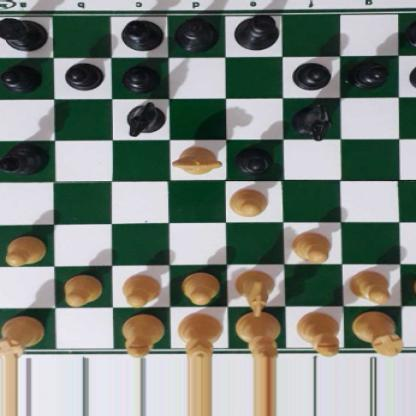black-bishop: (118, 19, 166, 51), (0, 143, 49, 174)
black-king: (232, 11, 279, 51)
black-knight: (291, 100, 331, 139), (124, 100, 164, 133)
black-pawn: (234, 144, 275, 175), (291, 59, 331, 89), (0, 63, 41, 90), (350, 59, 387, 88), (64, 61, 101, 90), (123, 62, 159, 91), (409, 60, 416, 91)
black-queen: (173, 15, 219, 53)
black-rook: (0, 15, 47, 51), (406, 9, 416, 48)
white-bishop: (121, 314, 165, 359), (296, 312, 340, 355)
white-king: (233, 310, 281, 359)
white-knight: (233, 268, 278, 317), (170, 146, 219, 175)
white-pawn: (347, 268, 392, 302), (289, 229, 331, 263), (119, 271, 159, 306), (1, 234, 46, 265), (60, 272, 101, 305), (179, 270, 219, 303), (227, 187, 267, 216), (412, 271, 416, 303)
white-queen: (176, 312, 224, 359)
white-rook: (355, 308, 400, 357), (0, 311, 42, 358)
